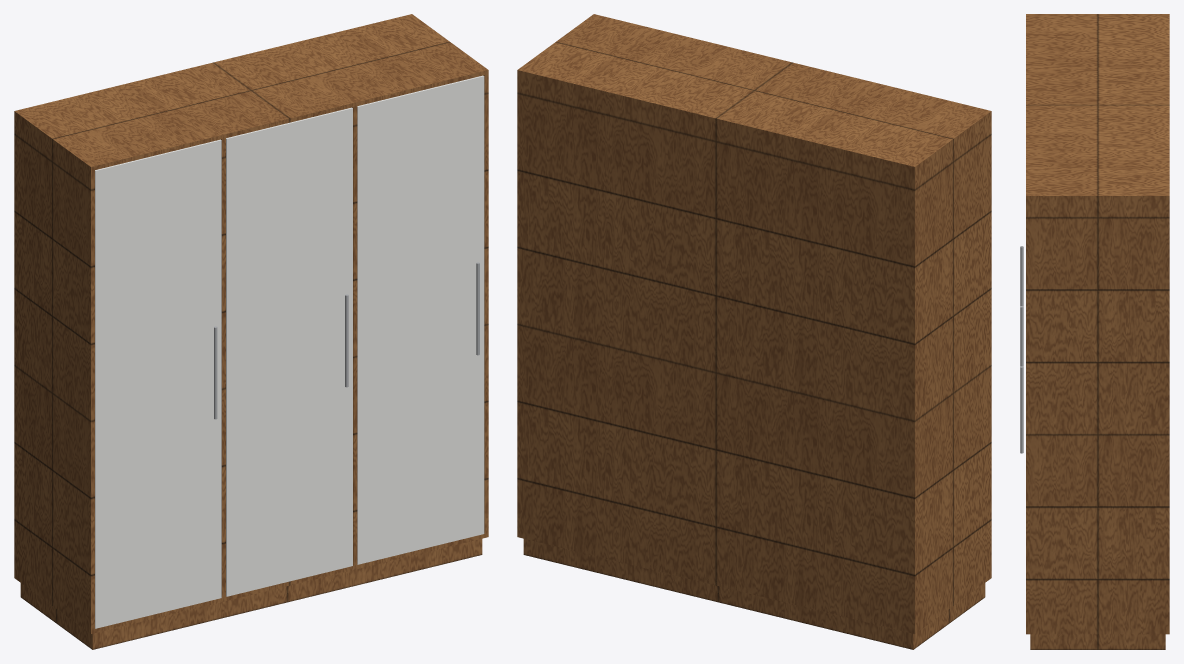
The model's file is Ruhasszekreny_3_ajtos.obj.
The picture shows the model from 3 angles, left to right: view 1: azimuth 30°, elevation 25°; view 2: azimuth 150°, elevation 25°; view 3: azimuth 270°, elevation 25°; orthographic projection. The views are drawn at different scales.
Bounding box in the file's own units: 1.8 × 2.1 × 0.625.
3 materials, 1 textured.
